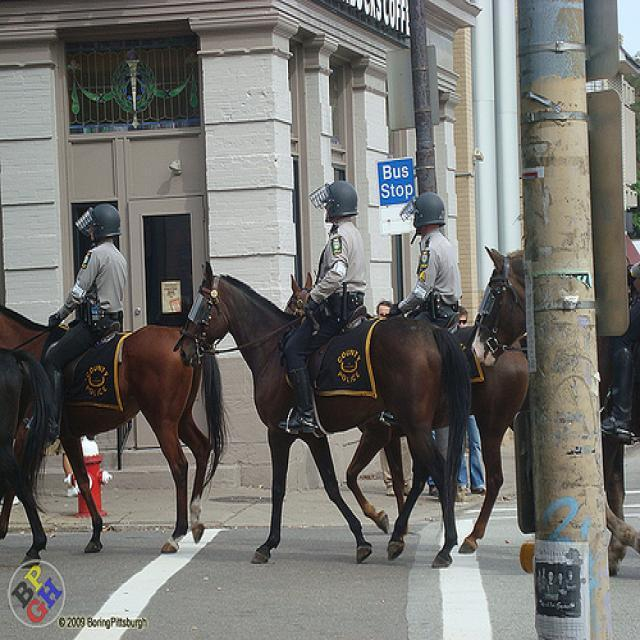fire_hydrant: (62, 453, 112, 518)
